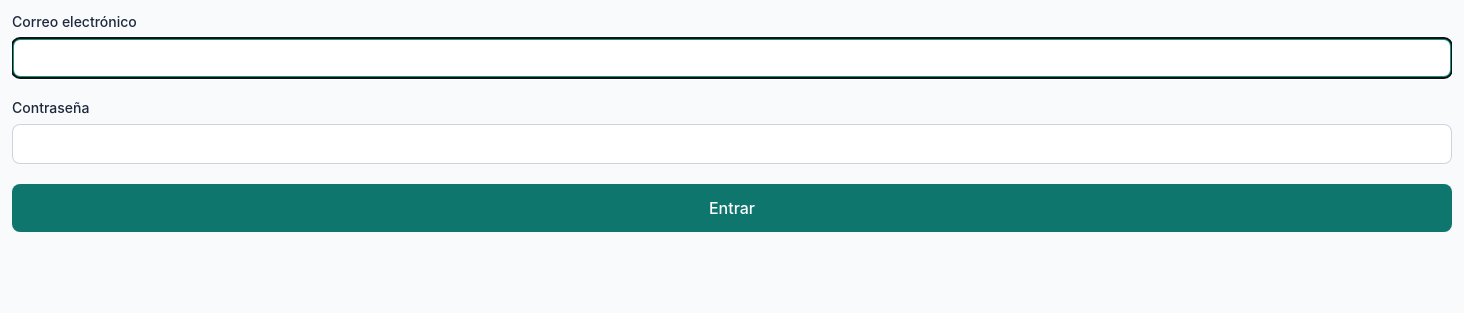
Test: LoginForm › AC-001-02: muestra el mensaje del API cuando las credenciales no son válidas
The width and height of the screenshot is (1464, 313).
In the field labelled "Correo electrónico": {"x": 732, "y": 58} [12, 38, 1452, 78], type "ana@bloom.test"
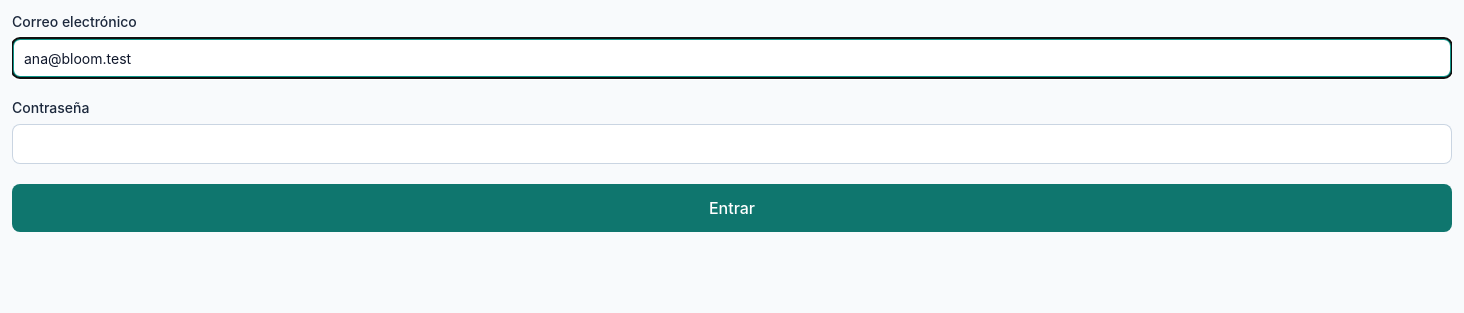
In the password field labelled "Contraseña": {"x": 732, "y": 144} [12, 124, 1452, 164], type "incorrecta"
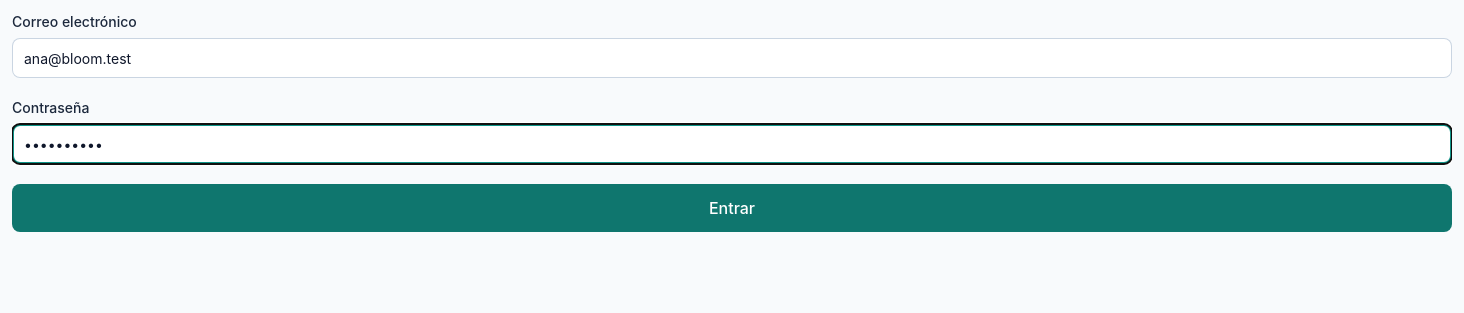
Click the button "Entrar": {"x": 732, "y": 208} [12, 184, 1452, 232]
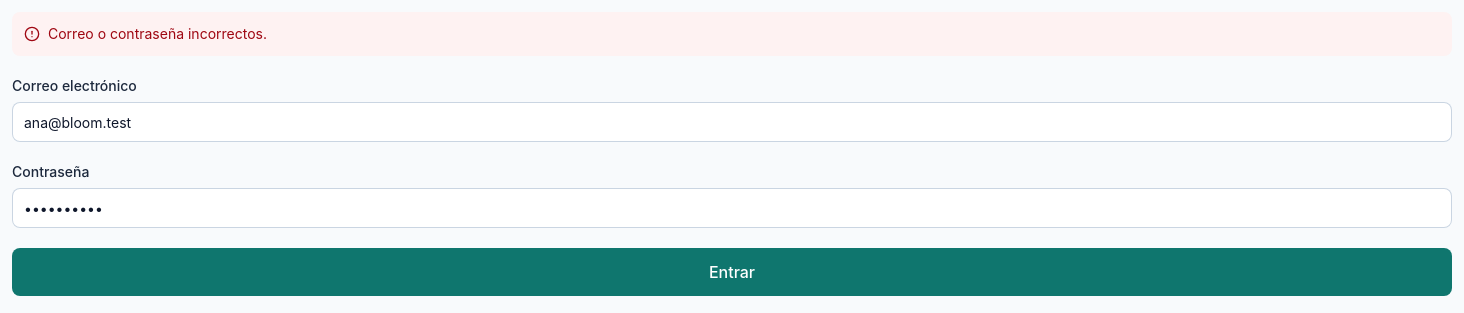
Expected: the message reads "Correo o contraseña incorrectos.", [48, 25, 267, 42]
